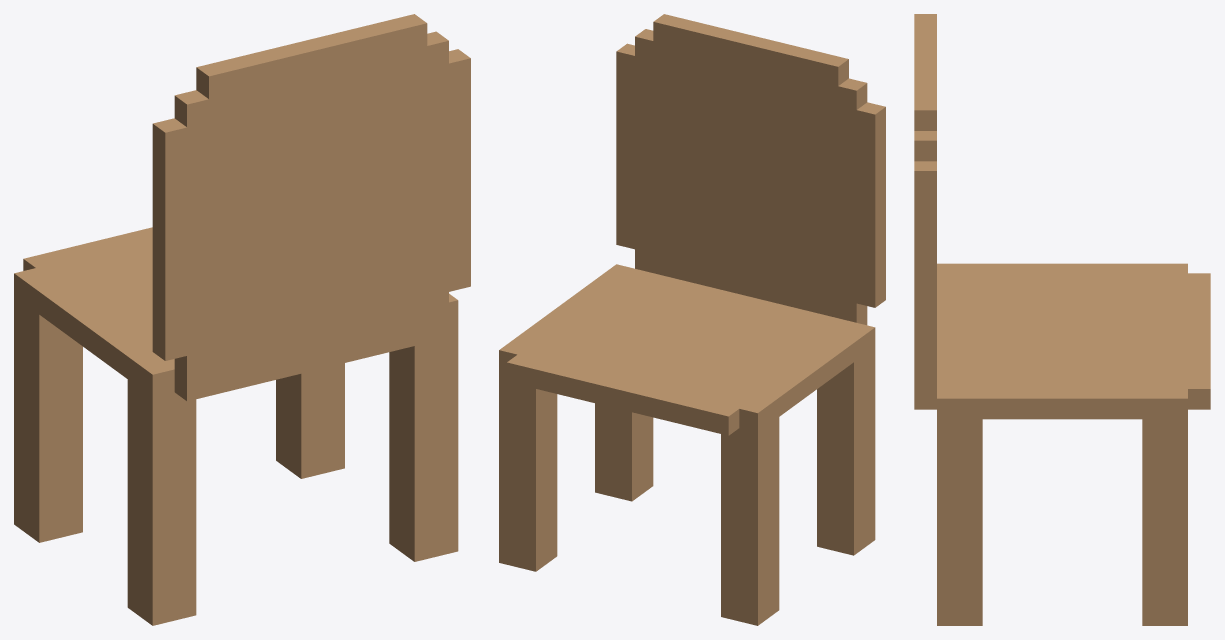
The model's file is Cadeira A.obj.
3 renders of one model, left to right at view 1: azimuth 30°, elevation 25°; view 2: azimuth 150°, elevation 25°; view 3: azimuth 270°, elevation 25°, orthographic. The views are drawn at different scales.
Parts seen in each view (by area): view 1: Model; view 2: Model; view 3: Model.
Boxes of the visible parts, x1=… form: Model: x1=14, y1=14, x2=470, y2=625; Model: x1=499, y1=14, x2=885, y2=625; Model: x1=914, y1=14, x2=1210, y2=625.
Bounding box in the file's own units: 14 × 24 × 13.
Materials: 1 (1 with a texture image).
